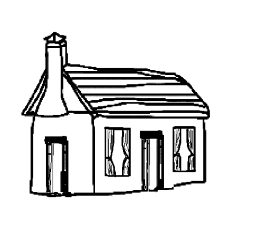chimney: (37, 31, 73, 116)
door: (42, 132, 74, 199), (137, 126, 167, 195)
open_window: (99, 125, 134, 181), (169, 121, 198, 176)
roof: (14, 62, 212, 123)
wall: (88, 110, 208, 198)
